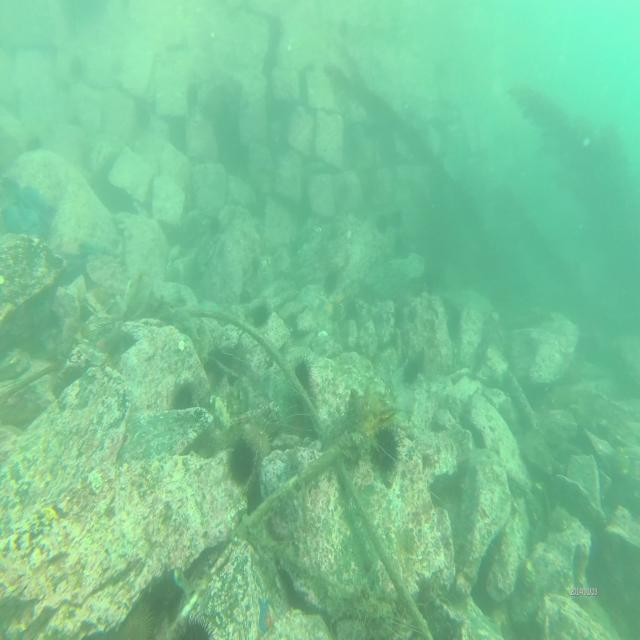echinus: (371, 421, 403, 476), (116, 599, 156, 640), (226, 435, 254, 486), (168, 612, 215, 640), (244, 418, 270, 464), (290, 354, 312, 392), (172, 380, 195, 413), (250, 300, 272, 329)
starfish: (256, 595, 274, 633), (320, 296, 334, 318)
